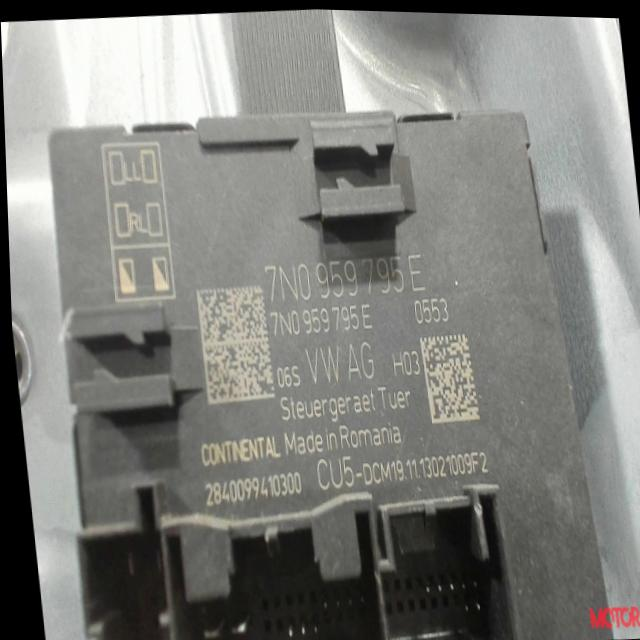datamatrix: (194, 283, 273, 405), (417, 329, 477, 424)
